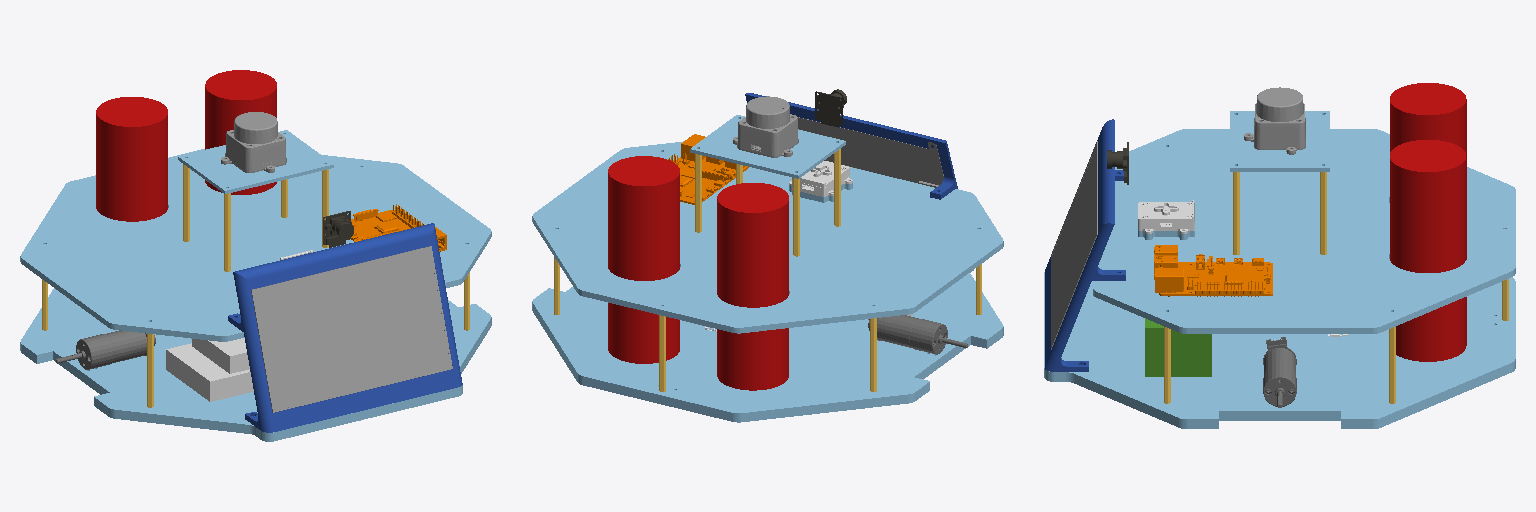
--- What the picture shows (computed from the rendered views, not written in the file) ---
The picture shows the robot from 3 angles, left to right: view 1: azimuth 30°, elevation 25°; view 2: azimuth 150°, elevation 25°; view 3: azimuth 270°, elevation 25°; orthographic projection.
Model OfficeMate with 18 links and 17 joints (4 continuous, 13 fixed), rooted at base, posed all joints at 0.
Visible links, largest first — view 1: top, base, lidar_base, ld19, dc_motor, imx219, distance_nut_m3_70mm_2; view 2: top, base, lidar_base, ld19, dc_motor, camarm_base_-_composite, imx219, distance_nut_m3_70mm_2; view 3: top, base, lidar_base, ld19, dc_motor_2, camarm_base_-_composite.
Boxes of the visible links, x1,y1,x2,y2 form: top: (20,70,491,341); base: (20,223,491,441); lidar_base: (178,130,333,193); ld19: (221,112,286,172); dc_motor: (56,330,155,369); imx219: (323,211,353,247); distance_nut_m3_70mm_2: (224,193,230,271); top: (532,134,1003,390); base: (532,93,1003,422); lidar_base: (690,115,845,178); ld19: (733,96,798,157); dc_motor: (868,315,967,354); camarm_base_-_composite: (789,161,852,196); imx219: (815,89,846,127); distance_nut_m3_70mm_2: (834,149,840,226); top: (1093,83,1515,361); base: (1044,119,1515,428); lidar_base: (1230,111,1329,171); ld19: (1244,87,1305,154); dc_motor_2: (1263,337,1296,407); camarm_base_-_composite: (1138,200,1194,233).
Size in the robot's own frame: 0.3659 by 0.35 by 0.195 metres.
28 mesh visuals loaded from 22 distinct referenced files (17 binary STL); not drawn: 8 (reference not matched to a file when rendering).

URDF robot description (OfficeMate):
<robot name="OfficeMate">
<link name="base">
<visual>
<origin xyz="-0.058000000000000030698 -0.065000000000000043854 0.0080000000000000001665" rpy="0 -0 0" />
<geometry>
<mesh filename="package://office_mate/description/nucleo-f411re_with_shield-mdd10.stl"/>
</geometry>
<material name="nucleo-f411re_with_shield-mdd10_material">
<color rgba="0.90196078431372550543 0.90196078431372550543 0.90196078431372550543 1.0"/>
</material>
</visual>
<collision>
<origin xyz="-0.058000000000000030698 -0.065000000000000043854 0.0080000000000000001665" rpy="0 -0 0" />
<geometry>
<mesh filename="package://office_mate/description/nucleo-f411re_with_shield-mdd10.stl"/>
</geometry>
</collision>
<visual>
<origin xyz="0.19305130036318296494 -0.054679223551488964628 -0.018000000000000022926" rpy="1.2246467991473500024e-16 -0 0" />
<geometry>
<mesh filename="package://office_mate/description/distance_nut_m3_70mm.stl"/>
</geometry>
<material name="distance_nut_m3_70mm_material">
<color rgba="1 0.82352941176470584317 0.37254901960784314596 1.0"/>
</material>
</visual>
<collision>
<origin xyz="0.19305130036318296494 -0.054679223551488964628 -0.018000000000000022926" rpy="1.2246467991473500024e-16 -0 0" />
<geometry>
<mesh filename="package://office_mate/description/distance_nut_m3_70mm.stl"/>
</geometry>
</collision>
<visual>
<origin xyz="-2.3540739670091515023e-17 0.00060508128685702125289 0" rpy="0 -0 0" />
<geometry>
<mesh filename="package://office_mate/description/base.stl"/>
</geometry>
<material name="base_material">
<color rgba="0.61568627450980395466 0.81176470588235294379 0.92941176470588238168 1.0"/>
</material>
</visual>
<collision>
<origin xyz="-2.3540739670091515023e-17 0.00060508128685702125289 0" rpy="0 -0 0" />
<geometry>
<mesh filename="package://office_mate/description/base.stl"/>
</geometry>
</collision>
<visual>
<origin xyz="-0.0073660000000000044884 0.16060508128685702101 -0.0040829999999999998239" rpy="0 -0 0" />
<geometry>
<mesh filename="package://office_mate/description/ballcaster_distance.stl"/>
</geometry>
<material name="ballcaster_distance_material">
<color rgba="0.61568627450980395466 0.81176470588235294379 0.92941176470588238168 1.0"/>
</material>
</visual>
<collision>
<origin xyz="-0.0073660000000000044884 0.16060508128685702101 -0.0040829999999999998239" rpy="0 -0 0" />
<geometry>
<mesh filename="package://office_mate/description/ballcaster_distance.stl"/>
</geometry>
</collision>
<visual>
<origin xyz="0.33811055549707641488 -0.13842922355148895575 -0.018000000000000022926" rpy="1.2246467991473500024e-16 -0 0" />
<geometry>
<mesh filename="package://office_mate/description/distance_nut_m3_70mm.stl"/>
</geometry>
<material name="distance_nut_m3_70mm_material">
<color rgba="1 0.82352941176470584317 0.37254901960784314596 1.0"/>
</material>
</visual>
<collision>
<origin xyz="0.33811055549707641488 -0.13842922355148895575 -0.018000000000000022926" rpy="1.2246467991473500024e-16 -0 0" />
<geometry>
<mesh filename="package://office_mate/description/distance_nut_m3_70mm.stl"/>
</geometry>
</collision>
<visual>
<origin xyz="0.33811055549707641488 -0.305929223551489049 -0.018000000000000022926" rpy="1.2246467991473500024e-16 -0 0" />
<geometry>
<mesh filename="package://office_mate/description/distance_nut_m3_70mm.stl"/>
</geometry>
<material name="distance_nut_m3_70mm_material">
<color rgba="1 0.82352941176470584317 0.37254901960784314596 1.0"/>
</material>
</visual>
<collision>
<origin xyz="0.33811055549707641488 -0.305929223551489049 -0.018000000000000022926" rpy="1.2246467991473500024e-16 -0 0" />
<geometry>
<mesh filename="package://office_mate/description/distance_nut_m3_70mm.stl"/>
</geometry>
</collision>
<visual>
<origin xyz="0.067500000000000018319 -0.075952768779387322406 0.0080000000000000001665" rpy="0 -0 0" />
<geometry>
<mesh filename="package://office_mate/description/battery_pack_2p2s.stl"/>
</geometry>
<material name="battery_pack_2p2s_material">
<color rgba="0.37254901960784314596 0.65490196078431373028 0.23921568627450981448 1.0"/>
</material>
</visual>
<collision>
<origin xyz="0.067500000000000018319 -0.075952768779387322406 0.0080000000000000001665" rpy="0 -0 0" />
<geometry>
<mesh filename="package://office_mate/description/battery_pack_2p2s.stl"/>
</geometry>
</collision>
<visual>
<origin xyz="-0.0073660000000000044884 -0.15939491871314293014 0" rpy="3.141592653589793116 -0 0" />
<geometry>
<mesh filename="package://office_mate/description/ballcaster_distance.stl"/>
</geometry>
<material name="ballcaster_distance_material">
<color rgba="0.61568627450980395466 0.81176470588235294379 0.92941176470588238168 1.0"/>
</material>
</visual>
<collision>
<origin xyz="-0.0073660000000000044884 -0.15939491871314293014 0" rpy="3.141592653589793116 -0 0" />
<geometry>
<mesh filename="package://office_mate/description/ballcaster_distance.stl"/>
</geometry>
</collision>
<visual>
<origin xyz="3.8163916471489756077e-17 -0.14840058650039017474 0.069718999913388229883" rpy="-0.34906585039886522948 -0 0" />
<geometry>
<mesh filename="package://office_mate/description/lcd_holder.stl"/>
</geometry>
<material name="lcd_holder_material">
<color rgba="0.2313725490196078538 0.38039215686274507888 0.7058823529411765163 1.0"/>
</material>
</visual>
<collision>
<origin xyz="3.8163916471489756077e-17 -0.14840058650039017474 0.069718999913388229883" rpy="-0.34906585039886522948 -0 0" />
<geometry>
<mesh filename="package://office_mate/description/lcd_holder.stl"/>
</geometry>
</collision>
<visual>
<origin xyz="0.0057938752055168157851 0.026777668702602386991 0.0060553509399131535268" rpy="0 -0 0" />
<geometry>
<mesh filename="package://office_mate/description/d36v50fx-step-down-voltage-regulator.stl"/>
</geometry>
<material name="d36v50fx-step-down-voltage-regulator_material">
<color rgba="1 1 1 1.0"/>
</material>
</visual>
<collision>
<origin xyz="0.0057938752055168157851 0.026777668702602386991 0.0060553509399131535268" rpy="0 -0 0" />
<geometry>
<mesh filename="package://office_mate/description/d36v50fx-step-down-voltage-regulator.stl"/>
</geometry>
</collision>
<visual>
<origin xyz="4.1633363423443370266e-17 -0.14877646354870460721 0.069855807970718525324" rpy="-0.34906585039886678379 -0 0" />
<geometry>
<mesh filename="package://office_mate/description/1118.stl"/>
</geometry>
<material name="1118_material">
<color rgba="0.64705882352941179736 0.64705882352941179736 0.64705882352941179736 1.0"/>
</material>
</visual>
<collision>
<origin xyz="4.1633363423443370266e-17 -0.14877646354870460721 0.069855807970718525324" rpy="-0.34906585039886678379 -0 0" />
<geometry>
<mesh filename="package://office_mate/description/1118.stl"/>
</geometry>
</collision>
<visual>
<origin xyz="0.047992045229289514996 -0.13842922355148895575 -0.018000000000000022926" rpy="1.2246467991473500024e-16 -0 0" />
<geometry>
<mesh filename="package://office_mate/description/distance_nut_m3_70mm.stl"/>
</geometry>
<material name="distance_nut_m3_70mm_material">
<color rgba="1 0.82352941176470584317 0.37254901960784314596 1.0"/>
</material>
</visual>
<collision>
<origin xyz="0.047992045229289514996 -0.13842922355148895575 -0.018000000000000022926" rpy="1.2246467991473500024e-16 -0 0" />
<geometry>
<mesh filename="package://office_mate/description/distance_nut_m3_70mm.stl"/>
</geometry>
</collision>
<inertial>
<origin xyz="0.0027246316639243026159 -0.051327075838684434184 0.025363890932312806864" rpy="0 0 0"/>
<mass value="1.8036258272218326226" />
<inertia ixx="0.017152316646292291302" ixy="0.00018065707213044202907"  ixz="-7.4138677728396813944e-05" iyy="0.01181840790159098889" iyz="0.0026963031358970589516" izz="0.025498019240910857475" />
</inertial>
</link>

<link name="ball_caster">
<visual>
<origin xyz="0.0073660000000000001516 0 -0.0020955000000000001403" rpy="3.141592653589793116 -0 0" />
<geometry>
<mesh filename="package://office_mate/description/ball_caster.stl"/>
</geometry>
<material name="ball_caster_material">
<color rgba="1 1 1 1.0"/>
</material>
</visual>
<collision>
<origin xyz="0.0073660000000000001516 0 -0.0020955000000000001403" rpy="3.141592653589793116 -0 0" />
<geometry>
<mesh filename="package://office_mate/description/ball_caster.stl"/>
</geometry>
</collision>
<inertial>
<origin xyz="0.0073655046575237647505 -1.9835572058669262912e-07 -0.0056150993913816008712" rpy="0 0 0"/>
<mass value="0.0049895160479999992043" />
<inertia ixx="1.2629713113281908865e-07" ixy="5.1435610177033656335e-12"  ixz="4.466551106969827492e-12" iyy="1.2096252512157598233e-07" iyz="2.1159407610626589839e-12" izz="1.3706971477299090287e-07" />
</inertial>
</link>

<joint name="link_front_ball" type="fixed">
<origin xyz="-0.0073660000000000027537 -0.15939491871314293014 -0.0040829999999999998239" rpy="0 -0 0" />
<parent link="base" />
<child link="ball_caster" />
<axis xyz="0 0 1"/>
<limit effort="1" velocity="20" />
<joint_properties friction="0.0"/>
</joint>

<link name="ball_caster_2">
<visual>
<origin xyz="0.0073660000000000001516 0 -0.0020955000000000001403" rpy="3.141592653589793116 -1.5408542917559201943e-46 -1.2151436667971120496e-46" />
<geometry>
<mesh filename="package://office_mate/description/ball_caster.stl"/>
</geometry>
<material name="ball_caster_material">
<color rgba="1 1 1 1.0"/>
</material>
</visual>
<collision>
<origin xyz="0.0073660000000000001516 0 -0.0020955000000000001403" rpy="3.141592653589793116 -1.5408542917559201943e-46 -1.2151436667971120496e-46" />
<geometry>
<mesh filename="package://office_mate/description/ball_caster.stl"/>
</geometry>
</collision>
<inertial>
<origin xyz="0.0073655046575237647505 -1.9835572058669262912e-07 -0.0056150993913816008712" rpy="0 0 0"/>
<mass value="0.0049895160479999992043" />
<inertia ixx="1.2629713113281908865e-07" ixy="5.1435610177033656335e-12"  ixz="4.466551106969827492e-12" iyy="1.2096252512157598233e-07" iyz="2.1159407610626589839e-12" izz="1.3706971477299090287e-07" />
</inertial>
</link>

<joint name="link_back_ball" type="fixed">
<origin xyz="-0.0073660000000000027537 0.16060508128685702101 -0.0040829999999999989566" rpy="-4.1633363423443138538e-16 2.3954968440554611406e-30 -7.888609052210095283e-31" />
<parent link="base" />
<child link="ball_caster_2" />
<axis xyz="0 0 1"/>
<limit effort="1" velocity="20" />
<joint_properties friction="0.0"/>
</joint>

<link name="motor_bracket">
<visual>
<origin xyz="0.0010000000000006368812 -0.0081499999999992966959 -0.013500000000000003317" rpy="-1.570796326794896558 3.4914813388431353274e-15 0" />
<geometry>
<mesh filename="package://office_mate/description/motor_bracket.stl"/>
</geometry>
<material name="motor_bracket_material">
<color rgba="0.79607843137254896693 0.82352941176470584317 0.9372549019607843146 1.0"/>
</material>
</visual>
<collision>
<origin xyz="0.0010000000000006368812 -0.0081499999999992966959 -0.013500000000000003317" rpy="-1.570796326794896558 3.4914813388431353274e-15 0" />
<geometry>
<mesh filename="package://office_mate/description/motor_bracket.stl"/>
</geometry>
</collision>
<inertial>
<origin xyz="-4.0713796376115173742e-06 -0.012177121574431949008 -0.0047261629959588959821" rpy="0 0 0"/>
<mass value="0.0084630469105596139306" />
<inertia ixx="2.8927942991819255597e-06" ixy="6.3752981952633879778e-10"  ixz="-1.2458808671189735512e-10" iyy="7.9629434849240485761e-07" iyz="5.5267826027688928448e-07" izz="2.9001914023676713086e-06" />
</inertial>
</link>

<link name="dc_motor">
<visual>
<origin xyz="-1.084202172485504434e-19 0.0085000000000099995567 -9.9920072216264088638e-15" rpy="-3.141592653589793116 -0 0" />
<geometry>
<mesh filename="package://office_mate/description/dc_motor.stl"/>
</geometry>
<material name="dc_motor_material">
<color rgba="0.49803921568627451677 0.49803921568627451677 0.49803921568627451677 1.0"/>
</material>
</visual>
<collision>
<origin xyz="-1.084202172485504434e-19 0.0085000000000099995567 -9.9920072216264088638e-15" rpy="-3.141592653589793116 -0 0" />
<geometry>
<mesh filename="package://office_mate/description/dc_motor.stl"/>
</geometry>
</collision>
<inertial>
<origin xyz="1.1702285396423018978e-05 0.0084346555184144807182 -0.027179996226653398844" rpy="0 0 0"/>
<mass value="0.096000000000000015876" />
<inertia ixx="3.1172642216988409689e-05" ixy="2.0079069750654133337e-08"  ixz="3.1478378843400612317e-08" iyy="3.1065300521791501672e-05" iyz="-1.8154048411485931386e-07" izz="7.041773449468090525e-06" />
</inertial>
</link>

<link name="wheel">
<visual>
<origin xyz="0 0 -0.0025000000000000022204" rpy="-1.570796326794896558 -1.570796326794896558 0" />
<geometry>
<mesh filename="package://office_mate/description/wheel.stl"/>
</geometry>
<material name="wheel_material">
<color rgba="0.50196078431372548323 0.50196078431372548323 0.50196078431372548323 1.0"/>
</material>
</visual>
<collision>
<origin xyz="0 0 -0.0025000000000000022204" rpy="-1.570796326794896558 -1.570796326794896558 0" />
<geometry>
<mesh filename="package://office_mate/description/wheel.stl"/>
</geometry>
</collision>
<inertial>
<origin xyz="7.9659079677543483088e-07 3.0513857657863314151e-08 -0.0025284034607947767151" rpy="0 0 0"/>
<mass value="0.014968548144000006286" />
<inertia ixx="8.6077439441117286581e-06" ixy="-2.3149305744626941308e-12"  ixz="1.0674848956514447684e-11" iyy="8.6048259472699125219e-06" iyz="-1.1376260598392653348e-12" izz="1.7005905067567777145e-05" />
</inertial>
</link>

<joint name="right_wheel" type="continuous">
<origin xyz="-1.084202172485504434e-19 0.0085000000000099995567 0.015000000000000013323" rpy="-3.4914813388431353274e-15 1.2190441939489852094e-29 -1.570796326794896558" />
<parent link="dc_motor" />
<child link="wheel" />
<axis xyz="0 0 1"/>
<limit effort="1" velocity="20" />
<joint_properties friction="0.0"/>
</joint>

<joint name="link_right_motor" type="fixed">
<origin xyz="-1.2359904766334750548e-17 0.0043499999999999927613 -0.022999999999999999611" rpy="1.570796326794896558 -3.4914813388431353274e-15 3.1415926535897895633" />
<parent link="motor_bracket" />
<child link="dc_motor" />
<axis xyz="0 0 1"/>
<limit effort="1" velocity="20" />
<joint_properties friction="0.0"/>
</joint>

<joint name="link_right_bracket" type="fixed">
<origin xyz="-0.15360000000000004206 0.00060508128685702472233 0.0080000000000000019013" rpy="3.141592653589793116 5.1885812976927455838e-73 -1.570796326794896558" />
<parent link="base" />
<child link="motor_bracket" />
<axis xyz="0 0 1"/>
<limit effort="1" velocity="20" />
<joint_properties friction="0.0"/>
</joint>

<link name="motor_bracket_2">
<visual>
<origin xyz="0.0010000000000006368812 -0.0081499999999992966959 -0.013500000000000003317" rpy="-1.570796326794896558 3.4914813388431353274e-15 6.6217083938053274108e-105" />
<geometry>
<mesh filename="package://office_mate/description/motor_bracket.stl"/>
</geometry>
<material name="motor_bracket_material">
<color rgba="0.79607843137254896693 0.82352941176470584317 0.9372549019607843146 1.0"/>
</material>
</visual>
<collision>
<origin xyz="0.0010000000000006368812 -0.0081499999999992966959 -0.013500000000000003317" rpy="-1.570796326794896558 3.4914813388431353274e-15 6.6217083938053274108e-105" />
<geometry>
<mesh filename="package://office_mate/description/motor_bracket.stl"/>
</geometry>
</collision>
<inertial>
<origin xyz="-4.0713796376115173742e-06 -0.012177121574431949008 -0.0047261629959588959821" rpy="0 0 0"/>
<mass value="0.0084630469105596139306" />
<inertia ixx="2.8927942991819255597e-06" ixy="6.3752981952633879778e-10"  ixz="-1.2458808671189735512e-10" iyy="7.9629434849240485761e-07" iyz="5.5267826027688928448e-07" izz="2.9001914023676713086e-06" />
</inertial>
</link>

<link name="dc_motor_2">
<visual>
<origin xyz="-1.084202172485504434e-19 0.0085000000000100030262 -9.9920072216264088638e-15" rpy="-3.141592653589793116 -0 0" />
<geometry>
<mesh filename="package://office_mate/description/dc_motor.stl"/>
</geometry>
<material name="dc_motor_material">
<color rgba="0.49803921568627451677 0.49803921568627451677 0.49803921568627451677 1.0"/>
</material>
</visual>
<collision>
<origin xyz="-1.084202172485504434e-19 0.0085000000000100030262 -9.9920072216264088638e-15" rpy="-3.141592653589793116 -0 0" />
<geometry>
<mesh filename="package://office_mate/description/dc_motor.stl"/>
</geometry>
</collision>
<inertial>
<origin xyz="1.1702285396423018978e-05 0.0084346555184144841877 -0.027179996226653398844" rpy="0 0 0"/>
<mass value="0.096000000000000015876" />
<inertia ixx="3.1172642216988409689e-05" ixy="2.0079069750654133337e-08"  ixz="3.1478378843400612317e-08" iyy="3.1065300521791501672e-05" iyz="-1.8154048411485931386e-07" izz="7.041773449468090525e-06" />
</inertial>
</link>

<link name="wheel_2">
<visual>
<origin xyz="0 0 -0.0025000000000000022204" rpy="-1.570796326794896558 -1.570796326794896558 0" />
<geometry>
<mesh filename="package://office_mate/description/wheel.stl"/>
</geometry>
<material name="wheel_material">
<color rgba="0.50196078431372548323 0.50196078431372548323 0.50196078431372548323 1.0"/>
</material>
</visual>
<collision>
<origin xyz="0 0 -0.0025000000000000022204" rpy="-1.570796326794896558 -1.570796326794896558 0" />
<geometry>
<mesh filename="package://office_mate/description/wheel.stl"/>
</geometry>
</collision>
<inertial>
<origin xyz="7.9659079677543483088e-07 3.0513857657863314151e-08 -0.0025284034607947767151" rpy="0 0 0"/>
<mass value="0.014968548144000006286" />
<inertia ixx="8.6077439441117286581e-06" ixy="-2.3149305744626941308e-12"  ixz="1.0674848956514447684e-11" iyy="8.6048259472699125219e-06" iyz="-1.1376260598392653348e-12" izz="1.7005905067567777145e-05" />
</inertial>
</link>

<joint name="left_wheel" type="continuous">
<origin xyz="-1.084202172485504434e-19 0.0085000000000100030262 0.015000000000000013323" rpy="-3.4914813388431357219e-15 1.2190441939489850693e-29 -1.570796326794896558" />
<parent link="dc_motor_2" />
<child link="wheel_2" />
<axis xyz="0 0 1"/>
<limit effort="1" velocity="20" />
<joint_properties friction="0.0"/>
</joint>

<joint name="link_left_motor" type="fixed">
<origin xyz="-1.2468324983583300991e-17 0.0043499999999999927613 -0.022999999999999999611" rpy="1.570796326794896558 -3.4914813388431353274e-15 3.1415926535897895633" />
<parent link="motor_bracket_2" />
<child link="dc_motor_2" />
<axis xyz="0 0 1"/>
<limit effort="1" velocity="20" />
<joint_properties friction="0.0"/>
</joint>

<joint name="link_left_bracket" type="fixed">
<origin xyz="0.15359999999999998654 0.00060508128685702483075 0.0080000000000000019013" rpy="3.141592653589793116 5.1885812976927455838e-73 1.570796326794896558" />
<parent link="base" />
<child link="motor_bracket_2" />
<axis xyz="0 0 1"/>
<limit effort="1" velocity="20" />
<joint_properties friction="0.0"/>
</joint>

<link name="distance_nut_m3_70mm">
<visual>
<origin xyz="0.19305130036318299269 0.22278430483834599229 0.026000000000000023093" rpy="-3.141592653589793116 -0 0" />
<geometry>
<mesh filename="package://office_mate/description/distance_nut_m3_70mm.stl"/>
</geometry>
<material name="distance_nut_m3_70mm_material">
<color rgba="1 0.82352941176470584317 0.37254901960784314596 1.0"/>
</material>
</visual>
<collision>
<origin xyz="0.19305130036318299269 0.22278430483834599229 0.026000000000000023093" rpy="-3.141592653589793116 -0 0" />
<geometry>
<mesh filename="package://office_mate/description/distance_nut_m3_70mm.stl"/>
</geometry>
</collision>
<inertial>
<origin xyz="-1.0269562977782697999e-15 3.6829282847797462738e-16 -0.034999999999999260869" rpy="0 0 0"/>
<mass value="0.0066280237756147792477" />
<inertia ixx="2.7203842094854557908e-06" ixy="0"  ixz="0" iyy="2.7203842094854566378e-06" iyz="3.2973638016105139197e-22" izz="2.788233555227402014e-08" />
</inertial>
</link>

<link name="top">
<visual>
<origin xyz="0.19505925513389343884 -0.19374999999999992228 0.067799999999999999156" rpy="3.141592653589793116 -0 0" />
<geometry>
<mesh filename="package://office_mate/description/coke_can.stl"/>
</geometry>
<material name="coke_can_material">
<color rgba="0.80784313725490197733 0.10588235294117646912 0.10588235294117646912 1.0"/>
</material>
</visual>
<collision>
<origin xyz="0.19505925513389343884 -0.19374999999999992228 0.067799999999999999156" rpy="3.141592653589793116 -0 0" />
<geometry>
<mesh filename="package://office_mate/description/coke_can.stl"/>
</geometry>
</collision>
<visual>
<origin xyz="0.29311055549707643042 0.10653430483834605558 0.021000000000000025591" rpy="-3.141592653589793116 -0 0" />
<geometry>
<mesh filename="package://office_mate/description/distance_nut_m3_70mm.stl"/>
</geometry>
<material name="distance_nut_m3_70mm_material">
<color rgba="1 0.82352941176470584317 0.37254901960784314596 1.0"/>
</material>
</visual>
<collision>
<origin xyz="0.29311055549707643042 0.10653430483834605558 0.021000000000000025591" rpy="-3.141592653589793116 -0 0" />
<geometry>
<mesh filename="package://office_mate/description/distance_nut_m3_70mm.stl"/>
</geometry>
</collision>
<visual>
<origin xyz="0.38311055549707639933 0.10653430483834605558 0.021000000000000025591" rpy="-3.141592653589793116 -0 0" />
<geometry>
<mesh filename="package://office_mate/description/distance_nut_m3_70mm.stl"/>
</geometry>
<material name="distance_nut_m3_70mm_material">
<color rgba="1 0.82352941176470584317 0.37254901960784314596 1.0"/>
</material>
</visual>
<collision>
<origin xyz="0.38311055549707639933 0.10653430483834605558 0.021000000000000025591" rpy="-3.141592653589793116 -0 0" />
<geometry>
<mesh filename="package://office_mate/description/distance_nut_m3_70mm.stl"/>
</geometry>
</collision>
<visual>
<origin xyz="0.095059255133893447165 -0.19374999999999992228 0.067799999999999999156" rpy="3.141592653589793116 -0 0" />
<geometry>
<mesh filename="package://office_mate/description/coke_can.stl"/>
</geometry>
<material name="coke_can_material">
<color rgba="0.80784313725490197733 0.10588235294117646912 0.10588235294117646912 1.0"/>
</material>
</visual>
<collision>
<origin xyz="0.095059255133893447165 -0.19374999999999992228 0.067799999999999999156" rpy="3.141592653589793116 -0 0" />
<geometry>
<mesh filename="package://office_mate/description/coke_can.stl"/>
</geometry>
</collision>
<visual>
<origin xyz="0.24055925513389345149 -0.036300819582330563773 -0.0077899999999999913758" rpy="3.141592653589793116 -0 1.570796326794896558" />
<geometry>
<mesh filename="package://office_mate/description/raspberry_pi_4_model_b_(1).stl"/>
</geometry>
<material name="raspberry_pi_4_model_b_(1)_material">
<color rgba="0.97254901960784312376 0.52941176470588235947 0.0039215686274509803377 1.0"/>
</material>
</visual>
<collision>
<origin xyz="0.24055925513389345149 -0.036300819582330563773 -0.0077899999999999913758" rpy="3.141592653589793116 -0 1.570796326794896558" />
<geometry>
<mesh filename="package://office_mate/description/raspberry_pi_4_model_b_(1).stl"/>
</geometry>
</collision>
<visual>
<origin xyz="0.14505925513389344994 -0.083749999999999935607 0" rpy="3.141592653589793116 -0 0" />
<geometry>
<mesh filename="package://office_mate/description/top.stl"/>
</geometry>
<material name="top_material">
<color rgba="0.61568627450980395466 0.81176470588235294379 0.92941176470588238168 1.0"/>
</material>
</visual>
<collision>
<origin xyz="0.14505925513389344994 -0.083749999999999935607 0" rpy="3.141592653589793116 -0 0" />
<geometry>
<mesh filename="package://office_mate/description/top.stl"/>
</geometry>
</collision>
<visual>
<origin xyz="0.12692378377913665632 0.013750000000000039968 -0.0050000000000000044409" rpy="3.141592653589793116 -0 0" />
<geometry>
<mesh filename="package://office_mate/description/camarm_distance.stl"/>
</geometry>
<material name="camarm_distance_material">
<color rgba="0.61568627450980395466 0.81176470588235294379 0.92941176470588238168 1.0"/>
</material>
</visual>
<collision>
<origin xyz="0.12692378377913665632 0.013750000000000039968 -0.0050000000000000044409" rpy="3.141592653589793116 -0 0" />
<geometry>
<mesh filename="package://office_mate/description/camarm_distance.stl"/>
</geometry>
</collision>
<visual>
<origin xyz="0.38311055549707645485 0.17153430483834603004 0.021000000000000025591" rpy="-3.141592653589793116 -0 0" />
<geometry>
<mesh filename="package://office_mate/description/distance_nut_m3_70mm.stl"/>
</geometry>
<material name="distance_nut_m3_70mm_material">
<color rgba="1 0.82352941176470584317 0.37254901960784314596 1.0"/>
</material>
</visual>
<collision>
<origin xyz="0.38311055549707645485 0.17153430483834603004 0.021000000000000025591" rpy="-3.141592653589793116 -0 0" />
<geometry>
<mesh filename="package://office_mate/description/distance_nut_m3_70mm.stl"/>
</geometry>
</collision>
<inertial>
<origin xyz="0.1494156293036301153 -0.13591106250677831291 -0.0071228524991533564981" rpy="0 0 0"/>
<mass value="1.1046136952433602829" />
<inertia ixx="0.0084364058010523053366" ixy="-0.00054029044693354379581"  ixz="3.1671277539864668444e-05" iyy="0.0078723668189140446477" iyz="-0.00013853620798837365156" izz="0.013581688273172957959" />
</inertial>
</link>

<link name="camarm_base_-_composite">
<visual>
<origin xyz="-0.010996149506440094923 0.018135235677378399449 0.0097000000000000002887" rpy="1.570796326794896558 -0 0" />
<geometry>
<mesh filename="package://office_mate/description/camarm_base_-_composite.stl"/>
</geometry>
<material name="camarm_base_-_composite_material">
<color rgba="0.91764705882352937127 0.91764705882352937127 0.91764705882352937127 1.0"/>
</material>
</visual>
<collision>
<origin xyz="-0.010996149506440094923 0.018135235677378399449 0.0097000000000000002887" rpy="1.570796326794896558 -0 0" />
<geometry>
<mesh filename="package://office_mate/description/camarm_base_-_composite.stl"/>
</geometry>
</collision>
<inertial>
<origin xyz="-0.013245661928236868166 0.018123765604992292388 0.0049073007228585584574" rpy="0 0 0"/>
<mass value="0.0068244556008501631311" />
<inertia ixx="7.1073256034190419503e-07" ixy="1.2934449036690319262e-09"  ixz="1.3192352645016505501e-08" iyy="1.1777445605980622577e-06" iyz="4.2455840575317742466e-11" izz="1.7292603662618425724e-06" />
</inertial>
</link>

<link name="camarm_dof1">
<visual>
<origin xyz="0.051123291732875997262 -0.10958829154836001452 -0.27807313693041091351" rpy="-1.570796326794896558 5.9953428796796897211e-29 3.6541705043885996685e-53" />
<geometry>
<mesh filename="package://office_mate/description/camarm_dof1.stl"/>
</geometry>
<material name="camarm_dof1_material">
<color rgba="0.49803921568627451677 0.49803921568627451677 0.49803921568627451677 1.0"/>
</material>
</visual>
<collision>
<origin xyz="0.051123291732875997262 -0.10958829154836001452 -0.27807313693041091351" rpy="-1.570796326794896558 5.9953428796796897211e-29 3.6541705043885996685e-53" />
<geometry>
<mesh filename="package://office_mate/description/camarm_dof1.stl"/>
</geometry>
</collision>
<inertial>
<origin xyz="0.0022773219872479211201 -0.0043513671529293029838 -0.017552355010931885992" rpy="0 0 0"/>
<mass value="0.0060638808957738489849" />
<inertia ixx="7.1076539408563383857e-07" ixy="-9.9529720186424178127e-08"  ixz="1.0997261342852401382e-07" iyy="4.5729137564926409367e-07" iyz="6.3507336431089969319e-08" izz="5.7676791032060439044e-07" />
</inertial>
</link>

<link name="camarm_dof2">
<visual>
<origin xyz="0.034575795421546040576 0.24559078401988179707 -0.11621718523324810202" rpy="8.2449635849302900544e-16 -0.010084305792712949107 -3.8520557510975112653e-34" />
<geometry>
<mesh filename="package://office_mate/description/camarm_dof2.stl"/>
</geometry>
<material name="camarm_dof2_material">
<color rgba="0.97254901960784312376 0.52941176470588235947 0.0039215686274509803377 1.0"/>
</material>
</visual>
<collision>
<origin xyz="0.034575795421546040576 0.24559078401988179707 -0.11621718523324810202" rpy="8.2449635849302900544e-16 -0.010084305792712949107 -3.8520557510975112653e-34" />
<geometry>
<mesh filename="package://office_mate/description/camarm_dof2.stl"/>
</geometry>
</collision>
<inertial>
<origin xyz="0.0017810483852564451546 0.0062450356673931783913 -0.015392594896296699081" rpy="0 0 0"/>
<mass value="0.0058014294694281225498" />
<inertia ixx="5.4736798770675080557e-07" ixy="-2.7234084537520971828e-08"  ixz="3.7153500098034377325e-09" iyy="3.1251076689497814527e-07" iyz="2.5145085457420699588e-08" izz="3.8345996572123426023e-07" />
</inertial>
</link>

<link name="imx219">
<visual>
<origin xyz="0.0047471802491726167172 0.035499999560675697674 0.10869999999999999107" rpy="1.570796326794896558 1.570796326794896558 0" />
<geometry>
<mesh filename="package://office_mate/description/imx219.stl"/>
</geometry>
<material name="imx219_material">
<color rgba="0.30196078431372547213 0.29019607843137257275 0.26274509803921569651 1.0"/>
</material>
</visual>
<collision>
<origin xyz="0.0047471802491726167172 0.035499999560675697674 0.10869999999999999107" rpy="1.570796326794896558 1.570796326794896558 0" />
<geometry>
<mesh filename="package://office_mate/description/imx219.stl"/>
</geometry>
</collision>
<inertial>
<origin xyz="0.0086458080922985937333 0.010499999457022613641 -0.0062022497276096461016" rpy="0 0 0"/>
<mass value="0.0040000000000000000833" />
<inertia ixx="2.0392473056225440343e-07" ixy="1.3463065537856105705e-15"  ixz="-3.022028386181775796e-08" iyy="2.255147537367037514e-07" iyz="1.896307781014395694e-15" izz="2.1235384082424955974e-07" />
</inertial>
</link>

<joint name="link_cam" type="fixed">
<origin xyz="0.010199999999999986855 0.018750000000000127676 -0.026400000000107545772" rpy="1.5707963267948961139 1.9675681772430708371e-15 -1.570796326794896558" />
<parent link="camarm_dof2" />
<child link="imx219" />
<axis xyz="0 0 1"/>
<limit effort="1" velocity="20" />
<joint_properties friction="0.0"/>
</joint>

<joint name="cam_arm_tilt_continuous" type="continuous">
<origin xyz="0.017691960138132484248 0.0070717989231726119392 -0.032482352910529171952" rpy="-1.570796326794896558 6.1546943232782896156e-29 -9.1528167594712707234e-20" />
<parent link="camarm_dof1" />
<child link="camarm_dof2" />
<axis xyz="0 0 1"/>
<limit effort="1" velocity="20" lower="0" upper="0"/>
<joint_properties friction="0.0"/>
</joint>

<joint name="cam_arm_pan_continuous" type="continuous">
<origin xyz="-0.012996149506440096699 0.018135235677378399449 0.011200000000000001621" rpy="3.141592653589793116 -1.7347234759768097907e-18 7.7582627154271159279e-37" />
<parent link="camarm_base_-_composite" />
<child link="camarm_dof1" />
<axis xyz="0 0 1"/>
<limit effort="1" velocity="20" />
<joint_properties friction="0.0"/>
</joint>

<joint name="link_cam_arm_base" type="fixed">
<origin xyz="0.12692425513389343772 0.013750000000000039968 -0.009999999999999995004" rpy="3.141592653589793116 -0 1.570796326794896558" />
<parent link="top" />
<child link="camarm_base_-_composite" />
<axis xyz="0 0 1"/>
<limit effort="1" velocity="20" />
<joint_properties friction="0.0"/>
</joint>

<link name="distance_nut_m3_70mm_2">
<visual>
<origin xyz="0.19305130036318299269 0.22278430483834599229 0.026000000000000030032" rpy="-3.141592653589793116 -0 0" />
<geometry>
<mesh filename="package://office_mate/description/distance_nut_m3_70mm.stl"/>
</geometry>
<material name="distance_nut_m3_70mm_material">
<color rgba="1 0.82352941176470584317 0.37254901960784314596 1.0"/>
</material>
</visual>
<collision>
<origin xyz="0.19305130036318299269 0.22278430483834599229 0.026000000000000030032" rpy="-3.141592653589793116 -0 0" />
<geometry>
<mesh filename="package://office_mate/description/distance_nut_m3_70mm.stl"/>
</geometry>
</collision>
<inertial>
<origin xyz="-1.0269562977782697999e-15 3.6829282847797462738e-16 -0.03499999999999925393" rpy="0 0 0"/>
<mass value="0.0066280237756147792477" />
<inertia ixx="2.7203842094854557908e-06" ixy="0"  ixz="0" iyy="2.7203842094854566378e-06" iyz="3.2973638016105139197e-22" izz="2.788233555227402014e-08" />
</inertial>
</link>

<link name="lidar_base">
<visual>
<origin xyz="0.045000000000000005274 -0.032500000000000008049 0" rpy="3.141592653589793116 -0 0" />
<geometry>
<mesh filename="package://office_mate/description/lidar_base.stl"/>
</geometry>
<material name="lidar_base_material">
<color rgba="0.61568627450980395466 0.81176470588235294379 0.92941176470588238168 1.0"/>
</material>
</visual>
<collision>
<origin xyz="0.045000000000000005274 -0.032500000000000008049 0" rpy="3.141592653589793116 -0 0" />
<geometry>
<mesh filename="package://office_mate/description/lidar_base.stl"/>
</geometry>
</collision>
<inertial>
<origin xyz="0.045000000000000005274 -0.032515383326323754609 -0.0015000000000000000312" rpy="0 0 0"/>
<mass value="0.026051724260384042514" />
<inertia ixx="1.2171910072355599246e-05" ixy="0"  ixz="0" iyy="2.1625962082370554481e-05" iyz="0" izz="3.3758794568335583465e-05" />
</inertial>
</link>

<link name="ld19">
<visual>
<origin xyz="0 0.023399953200000000314 0.0066000042000000092024" rpy="0 -0 0" />
<geometry>
<mesh filename="package://office_mate/description/ld19.stl"/>
</geometry>
<material name="ld19_material">
<color rgba="0.64705882352941179736 0.64705882352941179736 0.64705882352941179736 1.0"/>
</material>
</visual>
<collision>
<origin xyz="0 0.023399953200000000314 0.0066000042000000092024" rpy="0 -0 0" />
<geometry>
<mesh filename="package://office_mate/description/ld19.stl"/>
</geometry>
</collision>
<inertial>
<origin xyz="-5.3908662384178830825e-05 0.023384321784584858467 0.0085766761710235166205" rpy="0 0 0"/>
<mass value="0.046999999999999993172" />
<inertia ixx="1.2426951234982873008e-05" ixy="1.4418796247171438037e-08"  ixz="-2.0418088305607210491e-08" iyy="1.2622880433500651898e-05" iyz="-2.1946789308153018279e-08" izz="1.4268566285897476778e-05" />
</inertial>
</link>

<joint name="link_lidar" type="fixed">
<origin xyz="0.045000000000000005274 -0.0091000000000000073885 -0.0065000000000000057732" rpy="3.141592653589793116 -0 0" />
<parent link="lidar_base" />
<child link="ld19" />
<axis xyz="0 0 1"/>
<limit effort="1" velocity="20" />
<joint_properties friction="0.0"/>
</joint>

<joint name="link_support_top" type="fixed">
<origin xyz="1.3877787807814456755e-17 2.7755575615628913511e-17 -0.070000000000000006661" rpy="0 -0 0" />
<parent link="distance_nut_m3_70mm_2" />
<child link="lidar_base" />
<axis xyz="0 0 1"/>
<limit effort="1" velocity="20" />
<joint_properties friction="0.0"/>
</joint>

<joint name="link_middle_support" type="fixed">
<origin xyz="0.10005925513389343773 -0.051249999999999962252 -0.0050000000000000044409" rpy="0 -0 0" />
<parent link="top" />
<child link="distance_nut_m3_70mm_2" />
<axis xyz="0 0 1"/>
<limit effort="1" velocity="20" />
<joint_properties friction="0.0"/>
</joint>

<joint name="link_support_middle" type="fixed">
<origin xyz="0 0 -0.070000000000000006661" rpy="0 -0 0" />
<parent link="distance_nut_m3_70mm" />
<child link="top" />
<axis xyz="0 0 1"/>
<limit effort="1" velocity="20" />
<joint_properties friction="0.0"/>
</joint>

<joint name="link_base_support" type="fixed">
<origin xyz="-0.14505925513389356096 -0.083144918713142945688 0.0080000000000000001665" rpy="3.141592653589793116 -0 0" />
<parent link="base" />
<child link="distance_nut_m3_70mm" />
<axis xyz="0 0 1"/>
<limit effort="1" velocity="20" />
<joint_properties friction="0.0"/>
</joint>


</robot>
